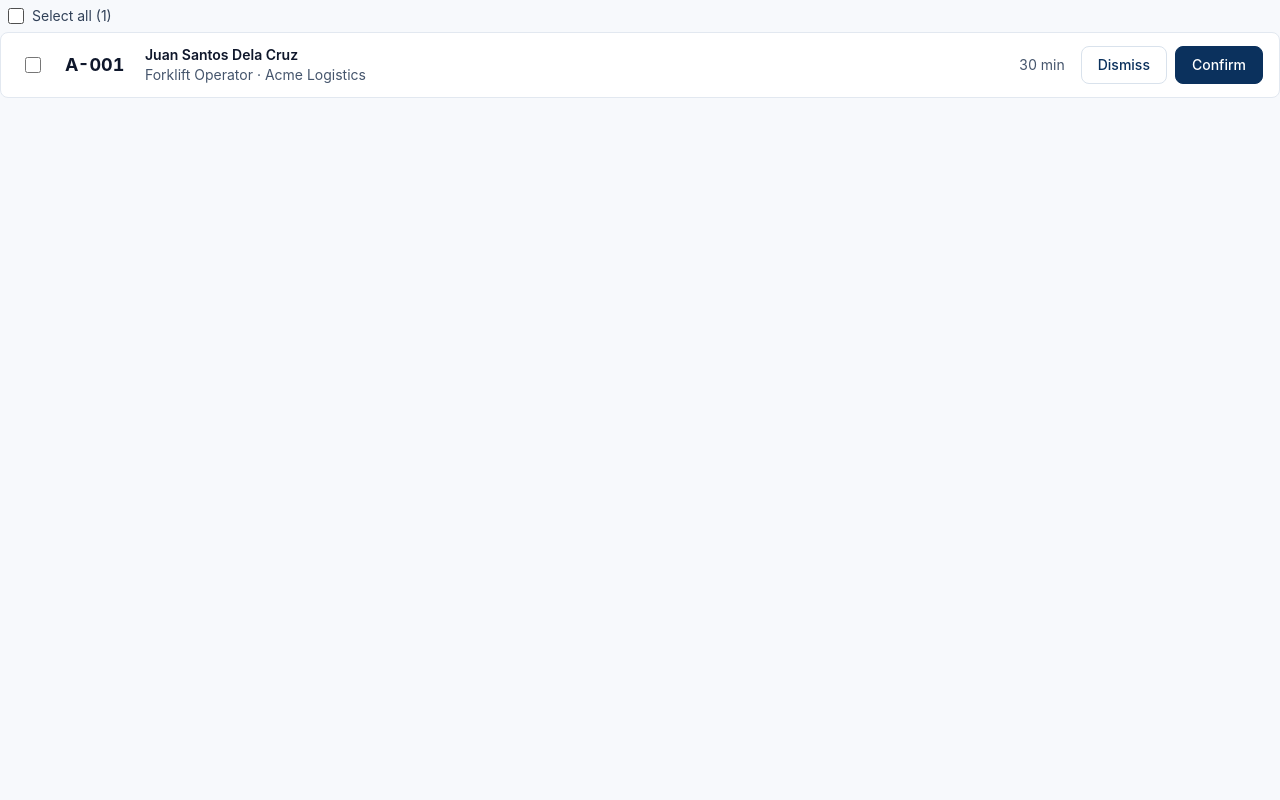
Test: CheckInsPanel: dismiss › dismisses with the trimmed reason, confirms it, and removes the dialog
Click the button with aria-label "Dismiss A-001" at (1124, 65), box [1081, 46, 1167, 84]
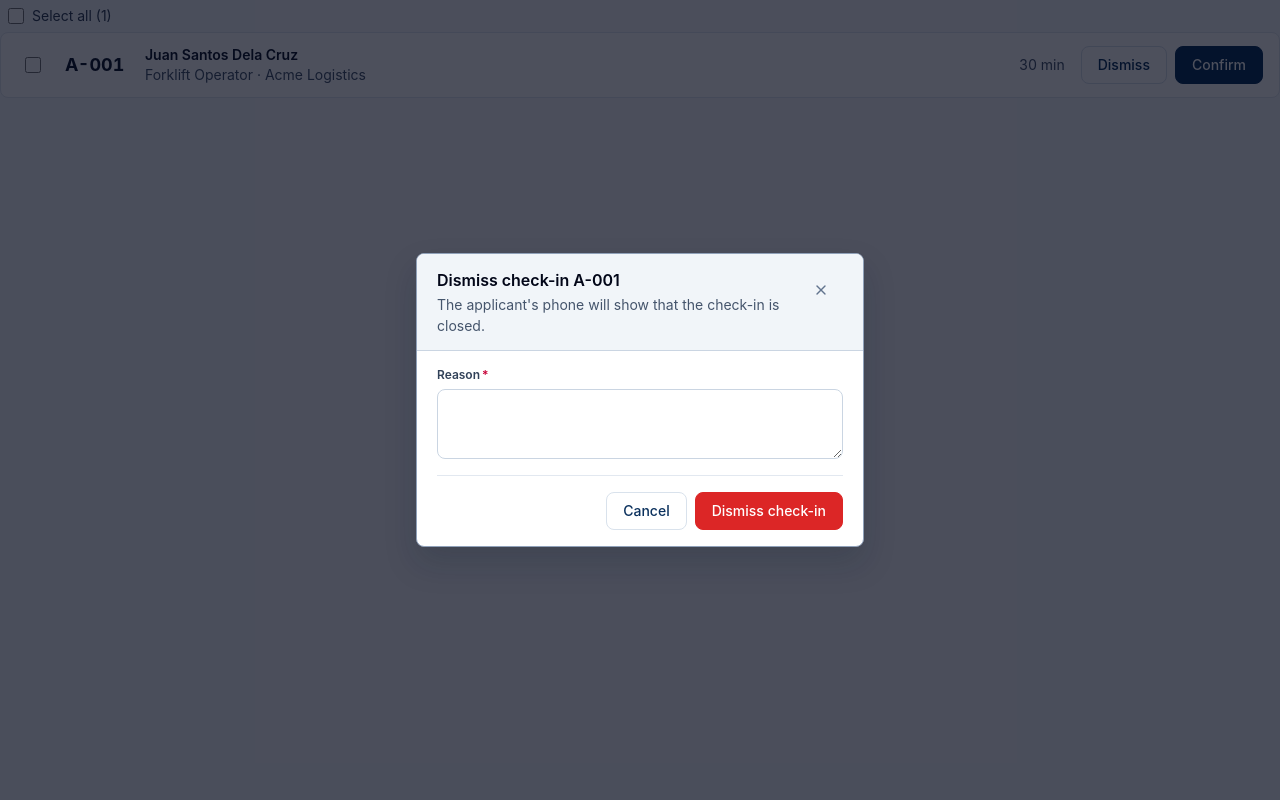
Result: the heading "Dismiss check-in A-001" is shown at [437, 270, 620, 290]
Type "  Left before the call  " into the text box labelled "Reason*" at (640, 424), box [437, 389, 843, 459]
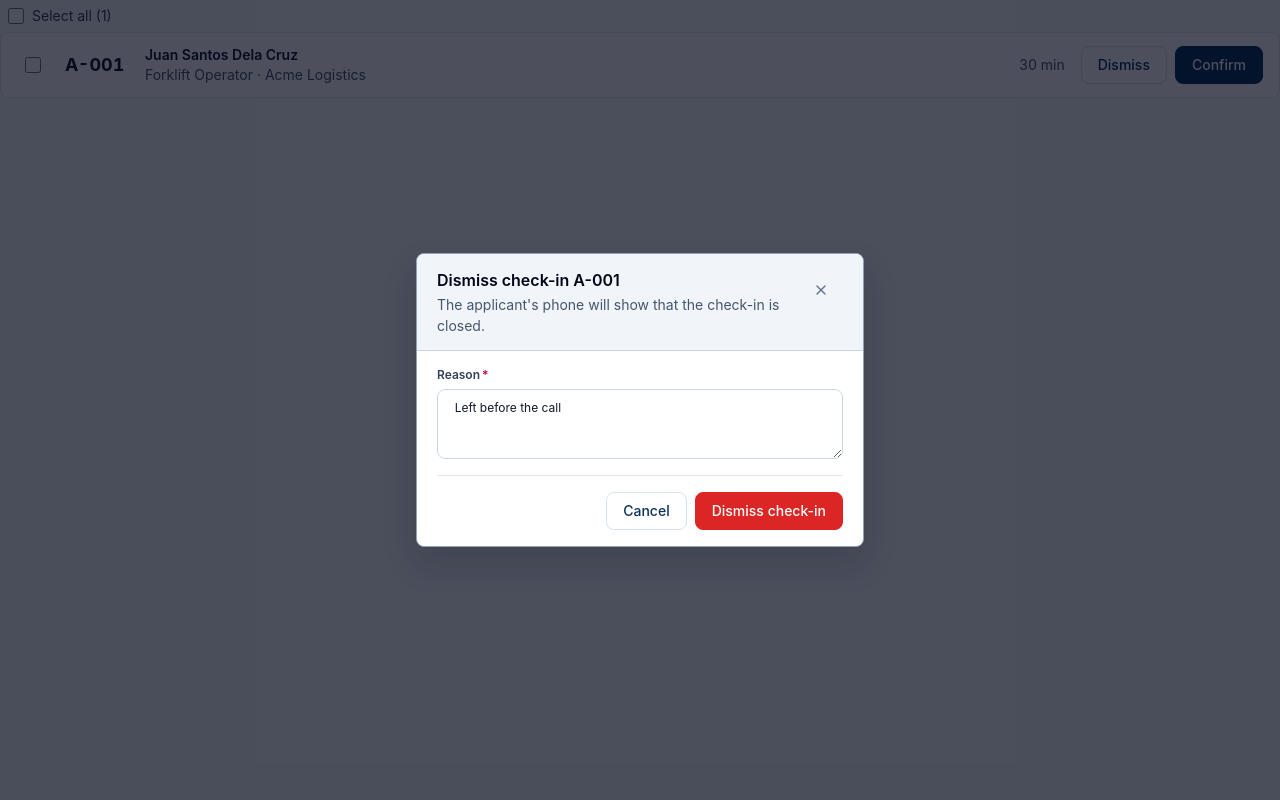
Click the button "Dismiss check-in" at (769, 511), box [695, 492, 843, 530]
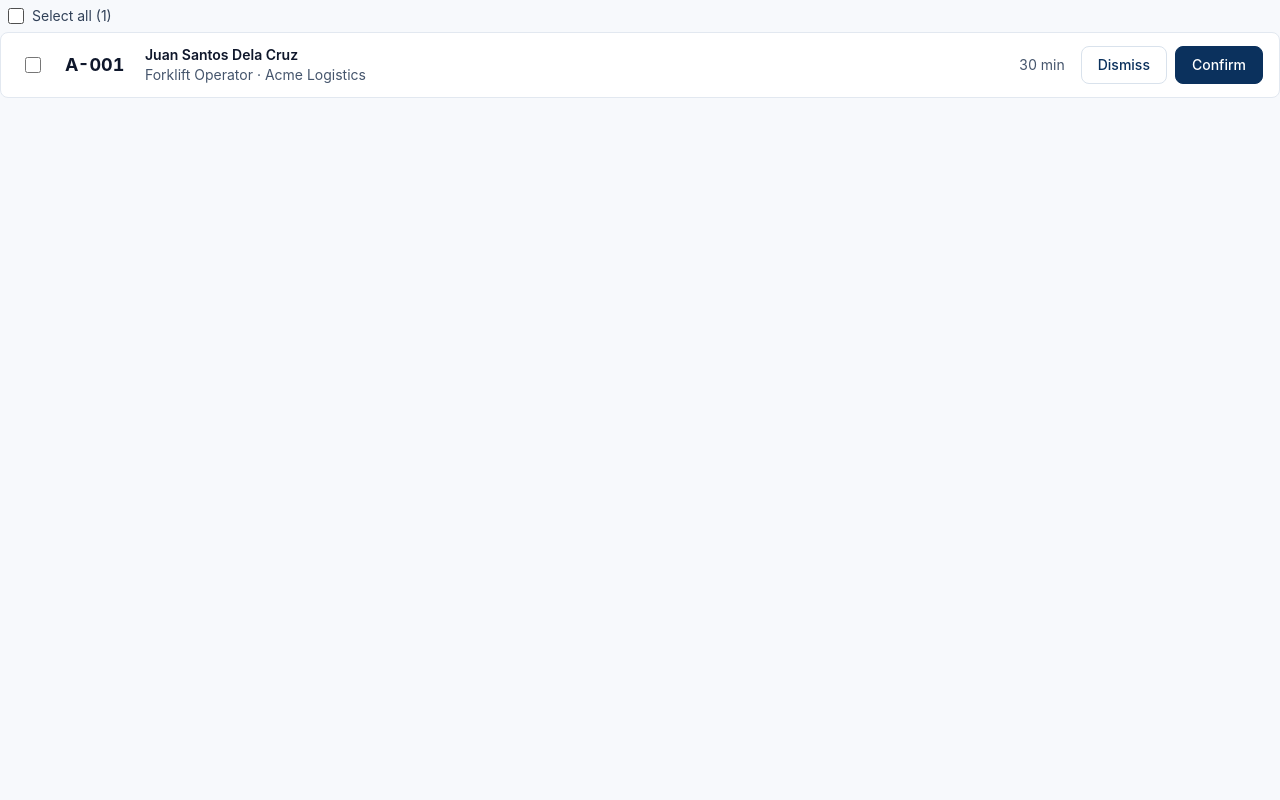
Result: the heading "Dismiss check-in A-001" is gone
